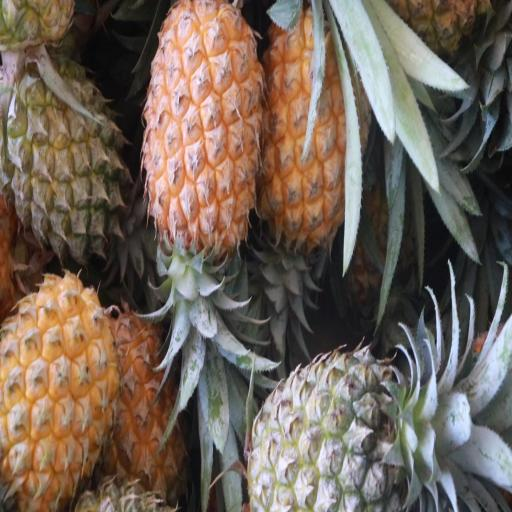------------------------------: (11, 61, 129, 267)
Pineapple - v8 v1: (144, 0, 264, 254), (0, 275, 115, 509), (260, 3, 370, 242)
